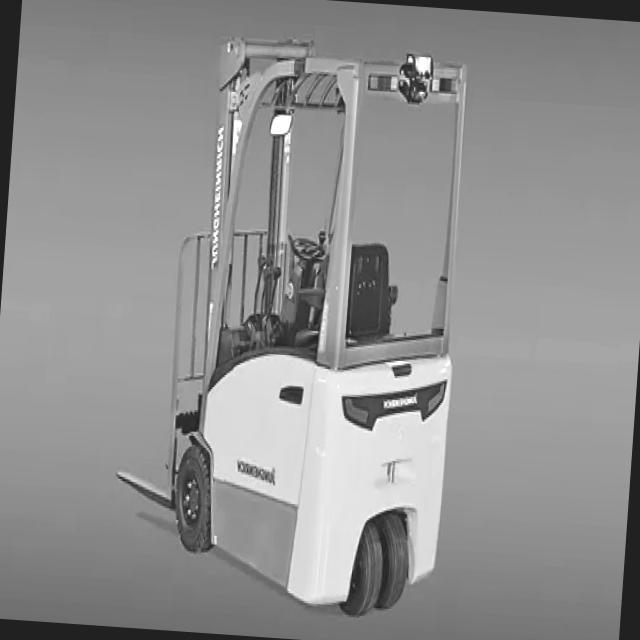forklift: (131, 6, 496, 640)
